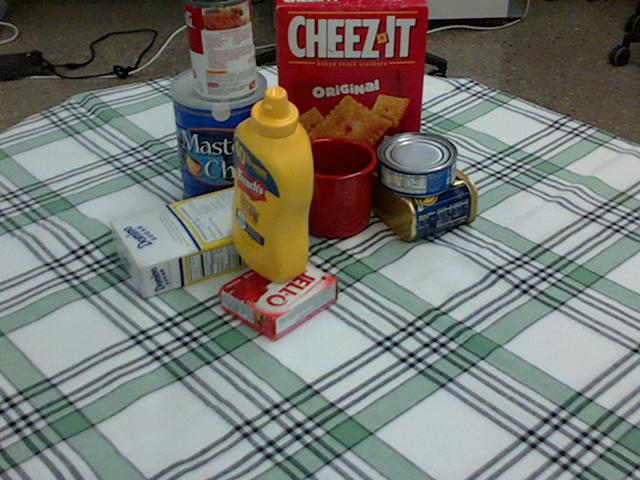cracker_box: (276, 0, 429, 182)
gelatin_box: (221, 251, 338, 340)
master_chef_can: (169, 64, 270, 218)
mug: (291, 135, 378, 237)
mustard_bottle: (231, 85, 312, 282)
potted_meat_can: (363, 146, 476, 237)
sugar_box: (107, 177, 300, 297)
tomato_soup_can: (184, 0, 256, 100)
tuna_fish_can: (376, 132, 457, 196)
